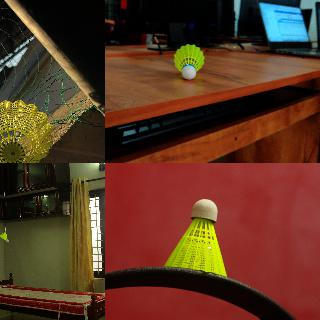shuttlecock: (164, 198, 226, 276), (0, 100, 54, 162), (173, 43, 204, 79), (0, 232, 8, 243)
